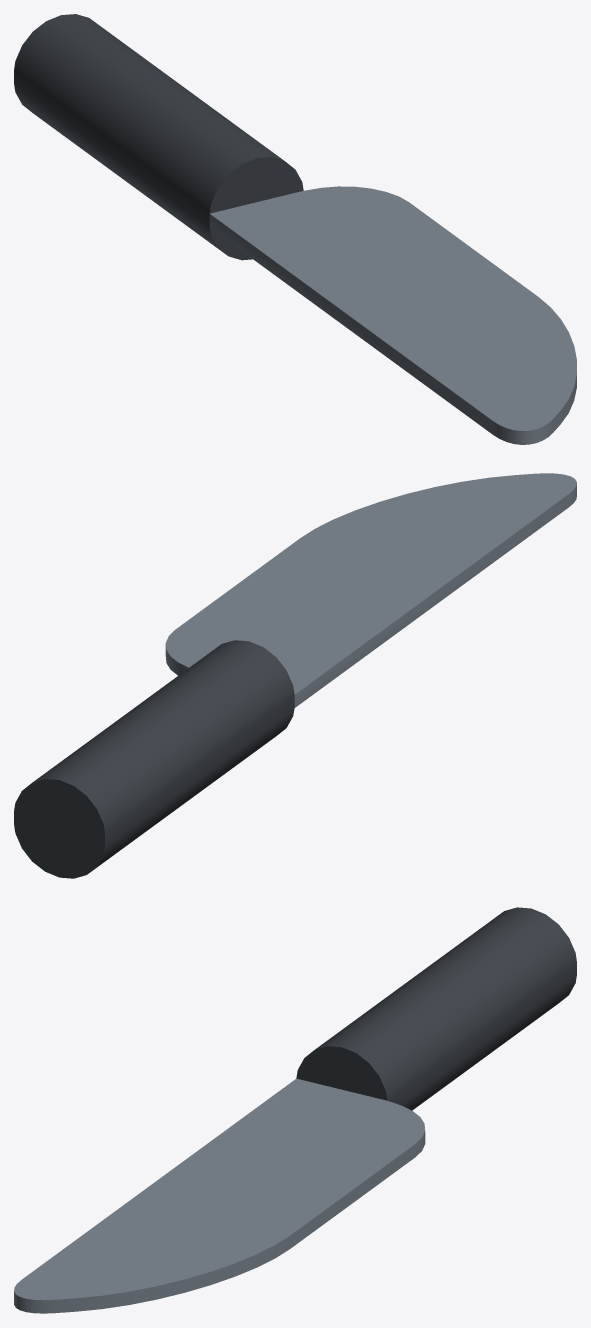
The model's file is Knife.fbx.
3 views of the same model, one above another, from view 1: azimuth 30°, elevation 25°; view 2: azimuth 150°, elevation 25°; view 3: azimuth 330°, elevation 25° (orthographic). The views are drawn at different scales.
Visible parts, largest first — view 1: Knife; view 2: Knife; view 3: Knife.
Part boxes in pixels (bbox=[...]): Knife: bbox=[14, 14, 576, 444]; Knife: bbox=[14, 473, 576, 878]; Knife: bbox=[14, 907, 576, 1313].
Size of the model in its own units: 0.1209 by 0.0721 by 0.6469.
